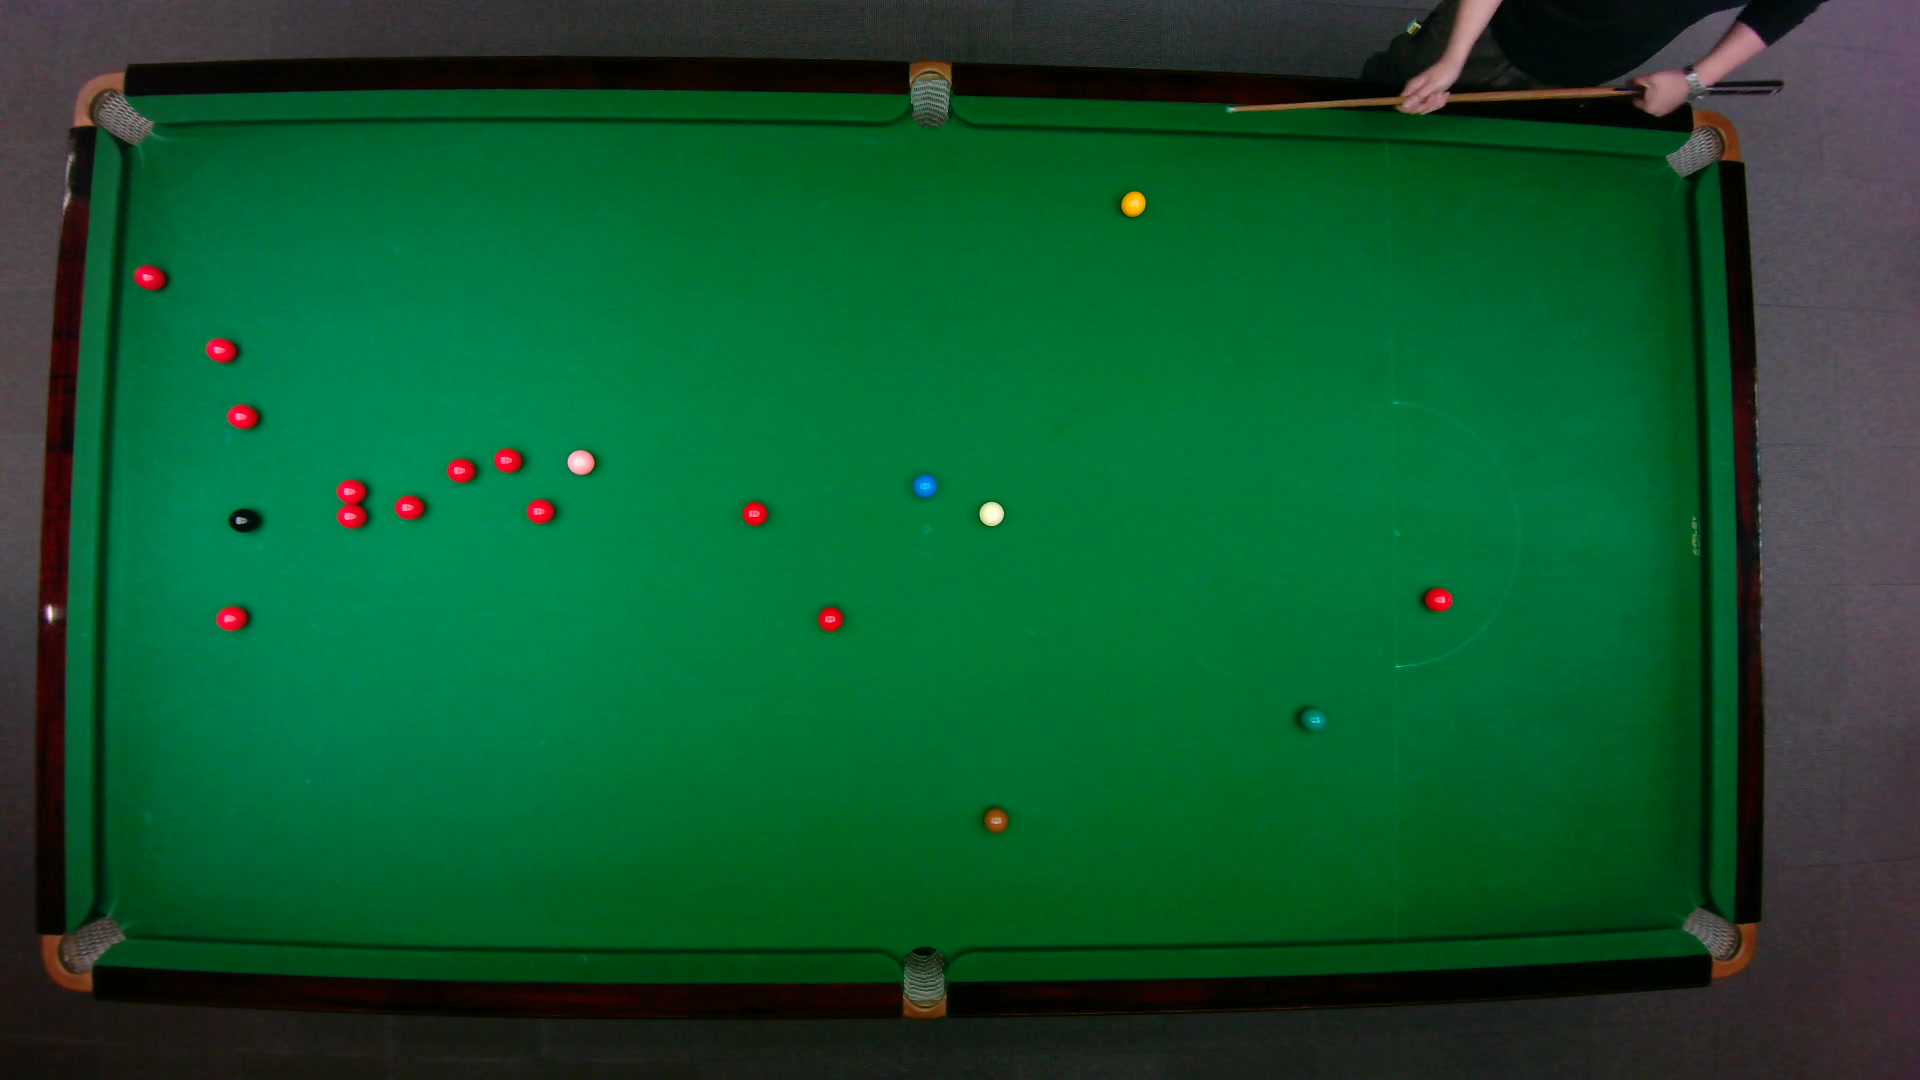bag: (40, 914, 128, 992), (71, 71, 157, 146), (1679, 905, 1758, 978), (1664, 108, 1741, 179), (902, 945, 945, 1021), (909, 59, 952, 131)
black: (225, 506, 258, 533)
blue: (911, 473, 939, 498)
brown: (982, 806, 1010, 833)
cue: (1224, 78, 1785, 115)
green: (1298, 705, 1328, 732)
pink: (564, 448, 597, 477)
red: (132, 262, 167, 291), (214, 604, 251, 632), (393, 493, 426, 521), (204, 336, 237, 364), (225, 404, 260, 430), (335, 477, 368, 504), (444, 458, 477, 484), (335, 504, 368, 530), (493, 446, 524, 473), (1422, 585, 1453, 612), (816, 605, 845, 633), (740, 500, 769, 527), (526, 498, 556, 525)
white: (977, 500, 1006, 527)
yellow: (1120, 189, 1149, 219)
zone: (1391, 400, 1520, 669)
